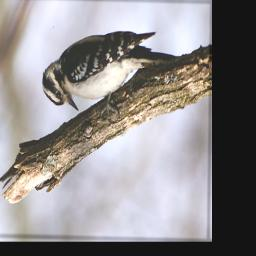Woodpecker: (32, 21, 181, 117)
